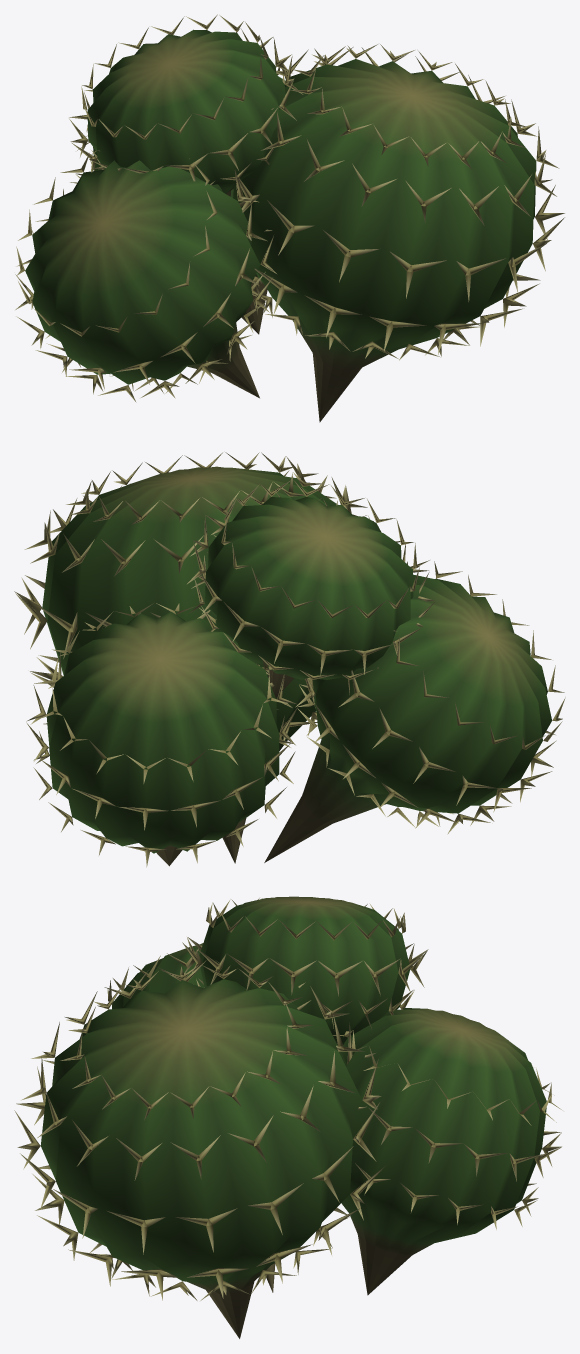
Rendered from plants-cacti-succulents-cactus-cluster_v1.glb.
The picture shows the model from 3 angles, top to bottom: view 1: azimuth 30°, elevation 25°; view 2: azimuth 150°, elevation 25°; view 3: azimuth 270°, elevation 25°; orthographic projection. The views are drawn at different scales.
Visible parts, largest first — view 1: Cactus Cluster_v1; view 2: Cactus Cluster_v1; view 3: Cactus Cluster_v1.
Part boxes in pixels (left/top/right/bottom): Cactus Cluster_v1: left=15, top=14, right=564, bottom=422; Cactus Cluster_v1: left=14, top=452, right=565, bottom=867; Cactus Cluster_v1: left=14, top=896, right=562, bottom=1338.
Size of the model in its own units: 0.4 by 0.2972 by 0.3724.
